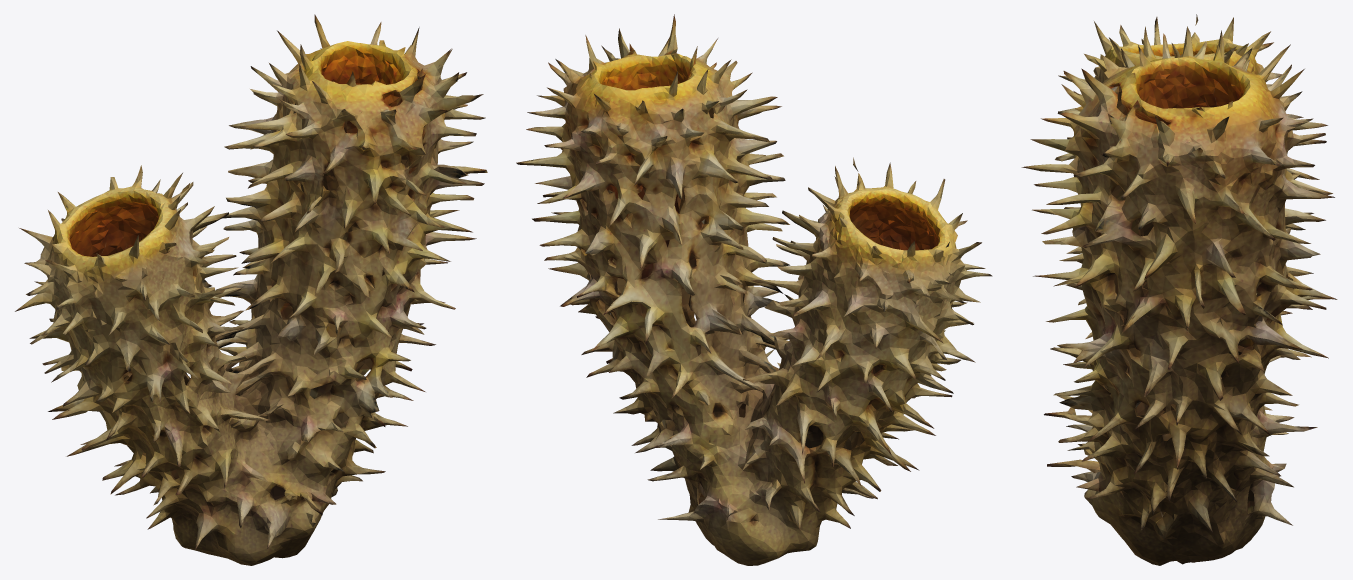
3 renders of one model, left to right at view 1: azimuth 30°, elevation 25°; view 2: azimuth 150°, elevation 25°; view 3: azimuth 270°, elevation 25°, orthographic. The views are drawn at different scales.
Parts seen in each view (by area): view 1: world; view 2: world; view 3: world.
Boxes of the visible parts, <box> form: world: <box>15,14,487,565</box>; world: <box>516,14,992,565</box>; world: <box>1021,14,1337,565</box>.
Size of the model in its own units: 0.9466 by 0.995 by 0.5093.
1 material, 1 textured.
